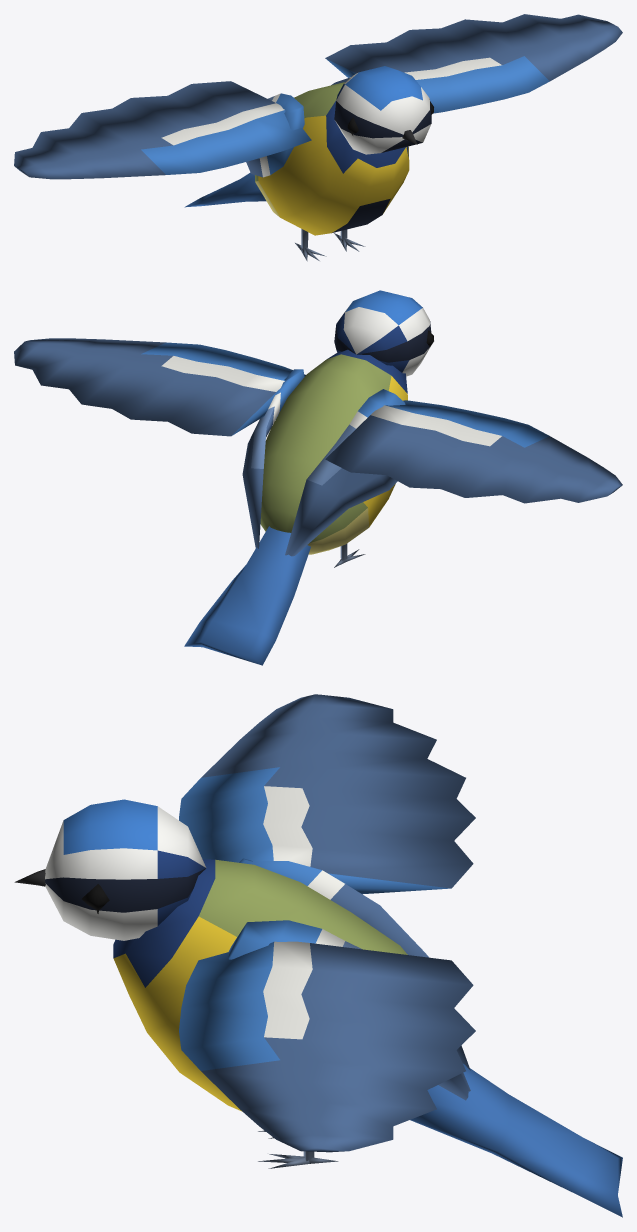
Rendered from blueTit.glb.
3 renders of one model, top to bottom at view 1: azimuth 30°, elevation 25°; view 2: azimuth 150°, elevation 25°; view 3: azimuth 270°, elevation 25°, orthographic. The views are drawn at different scales.
Parts seen in each view (by area): view 1: wing.R, wing.L, body, head, tail; view 2: body, wing.R, wing.L, tail, head; view 3: wing.L, wing.R, body, head, tail.
Boxes of the visible parts, x1,y1,x2,y2 form: wing.R: [14, 81, 311, 179]; wing.L: [325, 14, 622, 113]; body: [246, 77, 409, 261]; head: [334, 66, 433, 154]; tail: [184, 172, 266, 207]; body: [242, 349, 407, 567]; wing.R: [325, 400, 622, 503]; wing.L: [14, 338, 305, 436]; tail: [184, 526, 310, 665]; head: [334, 290, 433, 376]; wing.L: [179, 941, 475, 1152]; wing.R: [179, 694, 475, 894]; body: [113, 858, 470, 1168]; head: [14, 799, 206, 940]; tail: [410, 1063, 622, 1217].
Bounding box in the file's own units: 0.185 × 0.0718 × 0.105.
